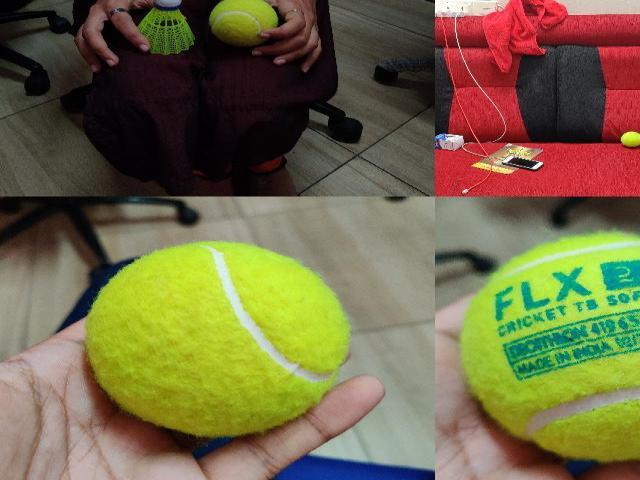tennis-ball: (86, 241, 347, 434), (461, 232, 639, 458), (209, 0, 278, 46), (620, 131, 639, 147)
